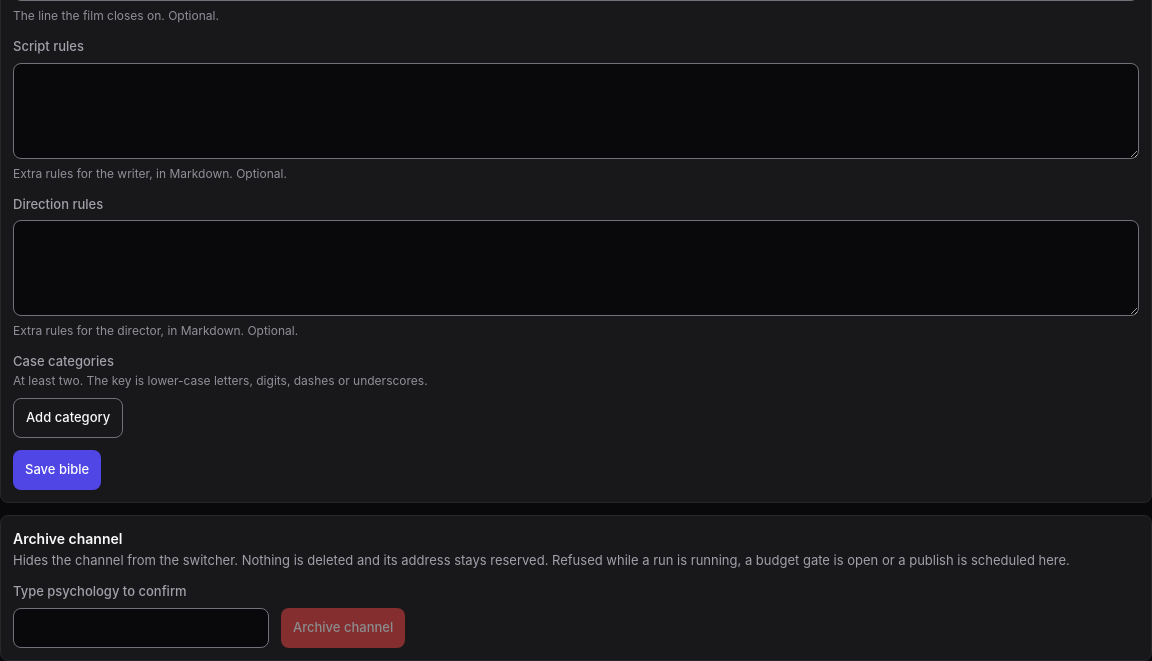
ChannelTab › archive › stays disabled until the address is typed exactly
(page scrolled)
Expected: the button "Archive channel" is disabled, [281,608,405,648]
In the field labelled "Type psychology to confirm": (141, 628) [13,608,269,648], type "psycho"
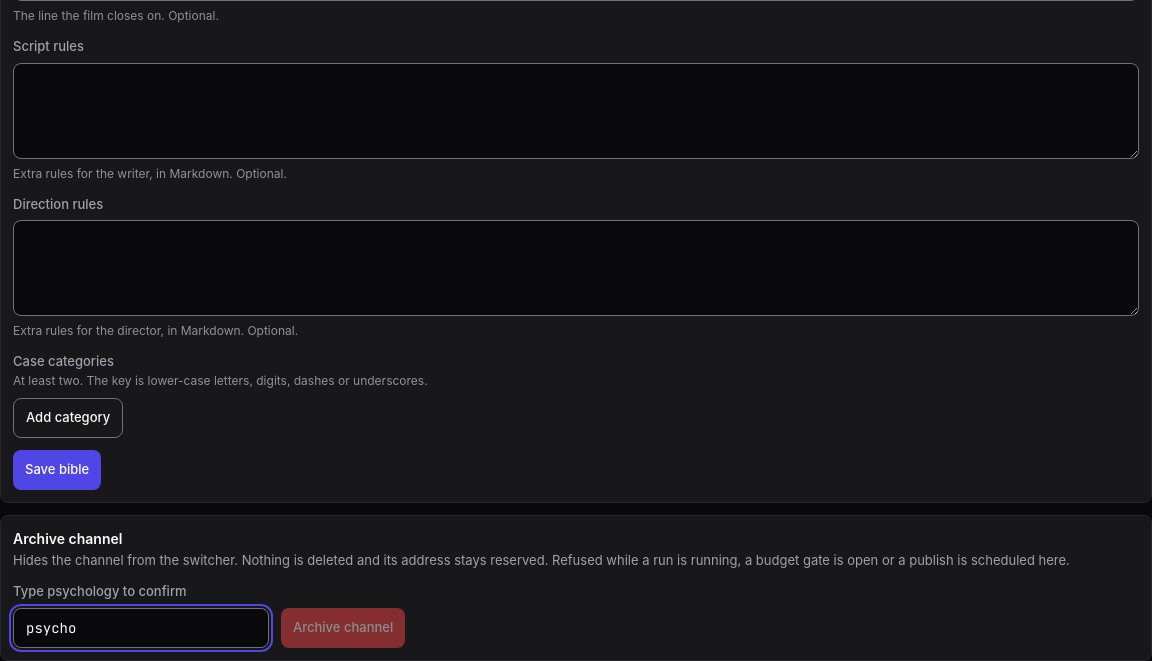
Expected: the button "Archive channel" is disabled, [281,608,405,648]
In the field labelled "Type psychology to confirm": (141, 628) [13,608,269,648], type "logy"
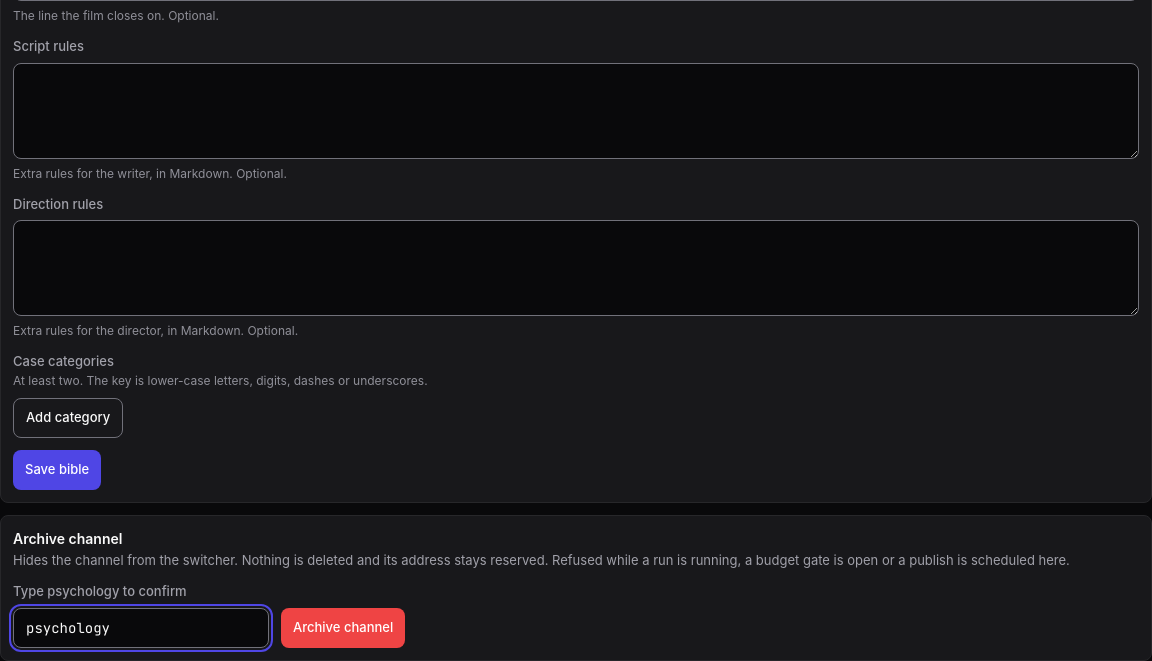
Now the button "Archive channel" is enabled, box [281,608,405,648]
